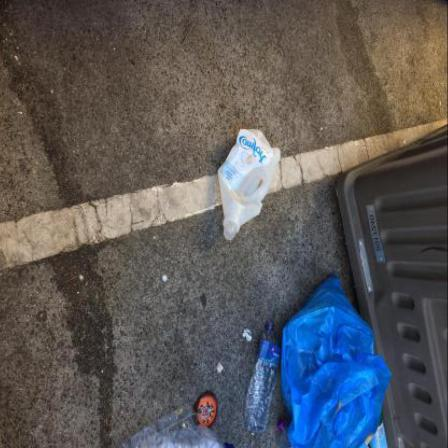Aluminium foil: (245, 329, 253, 343)
Bottle: (219, 130, 282, 241), (246, 324, 282, 434), (119, 426, 236, 448), (278, 421, 294, 448)
Bottle cap: (224, 216, 242, 241), (278, 420, 287, 431), (163, 276, 169, 284)
Lid: (196, 393, 220, 429)
Other plastic: (367, 413, 391, 448)
Plastic bag - wrapper: (282, 273, 393, 448)
Plastic container: (137, 405, 200, 435)
Unlabeled litter: (218, 363, 226, 374)
